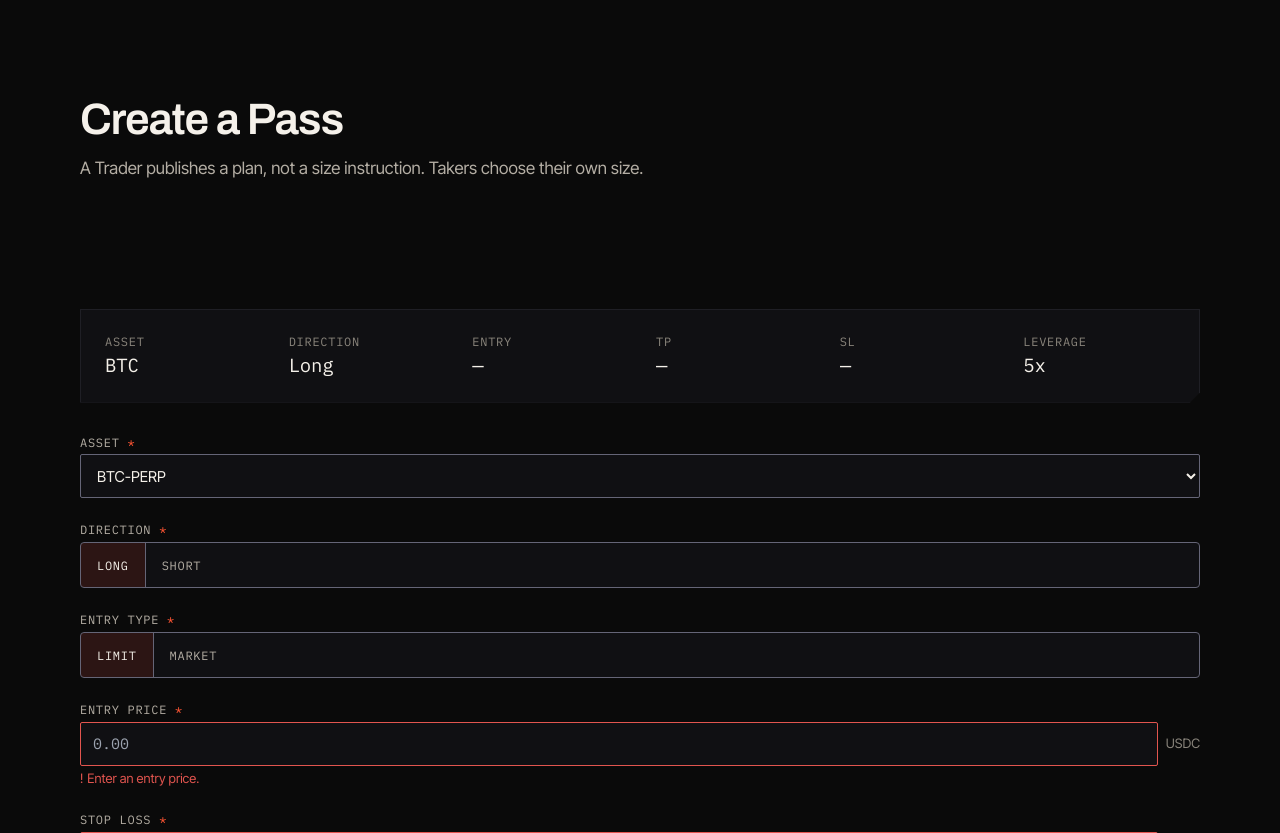
Test: Create Pass publish path (create then publish) › renders no entry-price input for a market entry, and keeps it for limit
Check: the heading "Create a Pass" is shown, box [80, 95, 343, 143]
Check: the field labelled "Entry price *" is shown, box [80, 722, 1158, 766]
Click the button "Market" at (193, 655), box [153, 633, 233, 677]
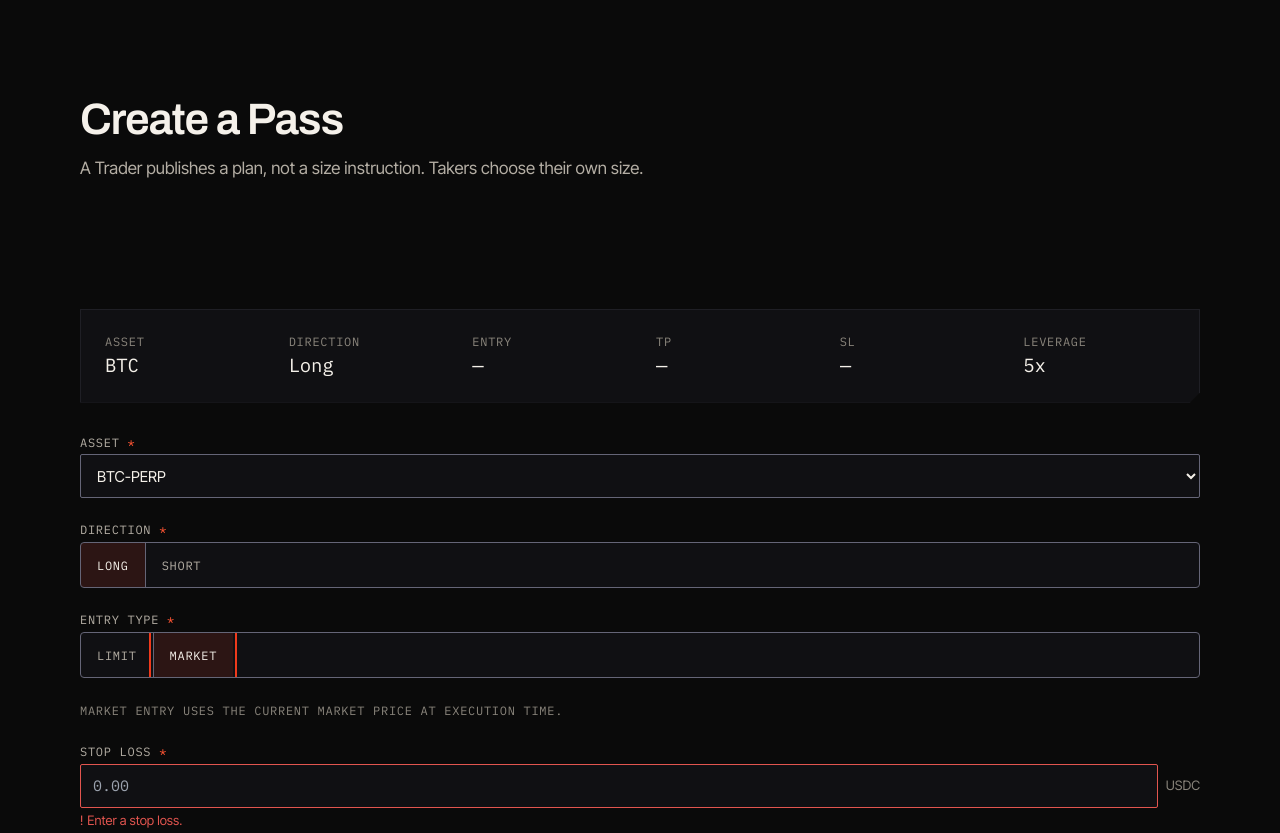
Check: the label labelled "Entry price" is gone
Check: the text "Market entry uses the current market price" is shown, box [80, 703, 563, 718]
Note: Back to limit: the input returns.
Click the button "Limit" at (117, 655), box [81, 633, 153, 677]
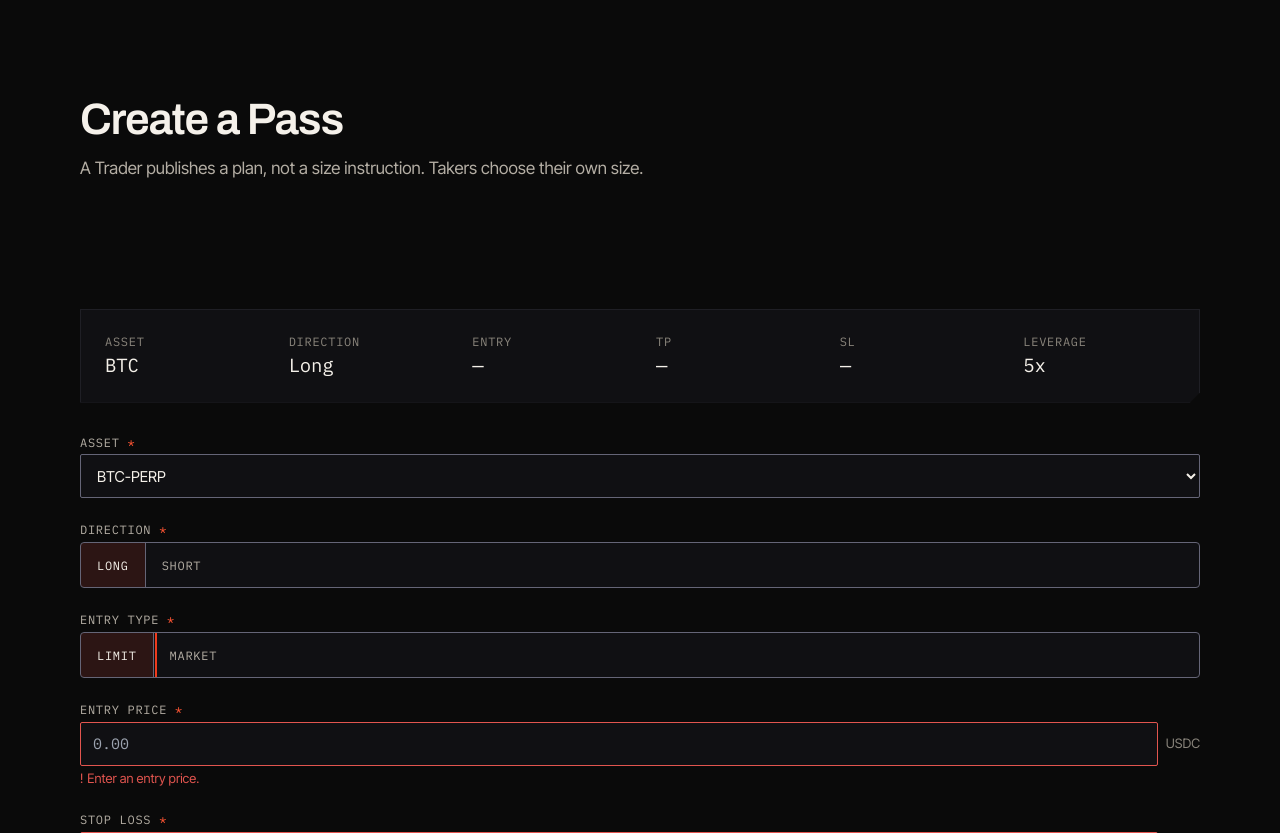
Check: the field labelled "Entry price *" is shown, box [80, 722, 1158, 766]
